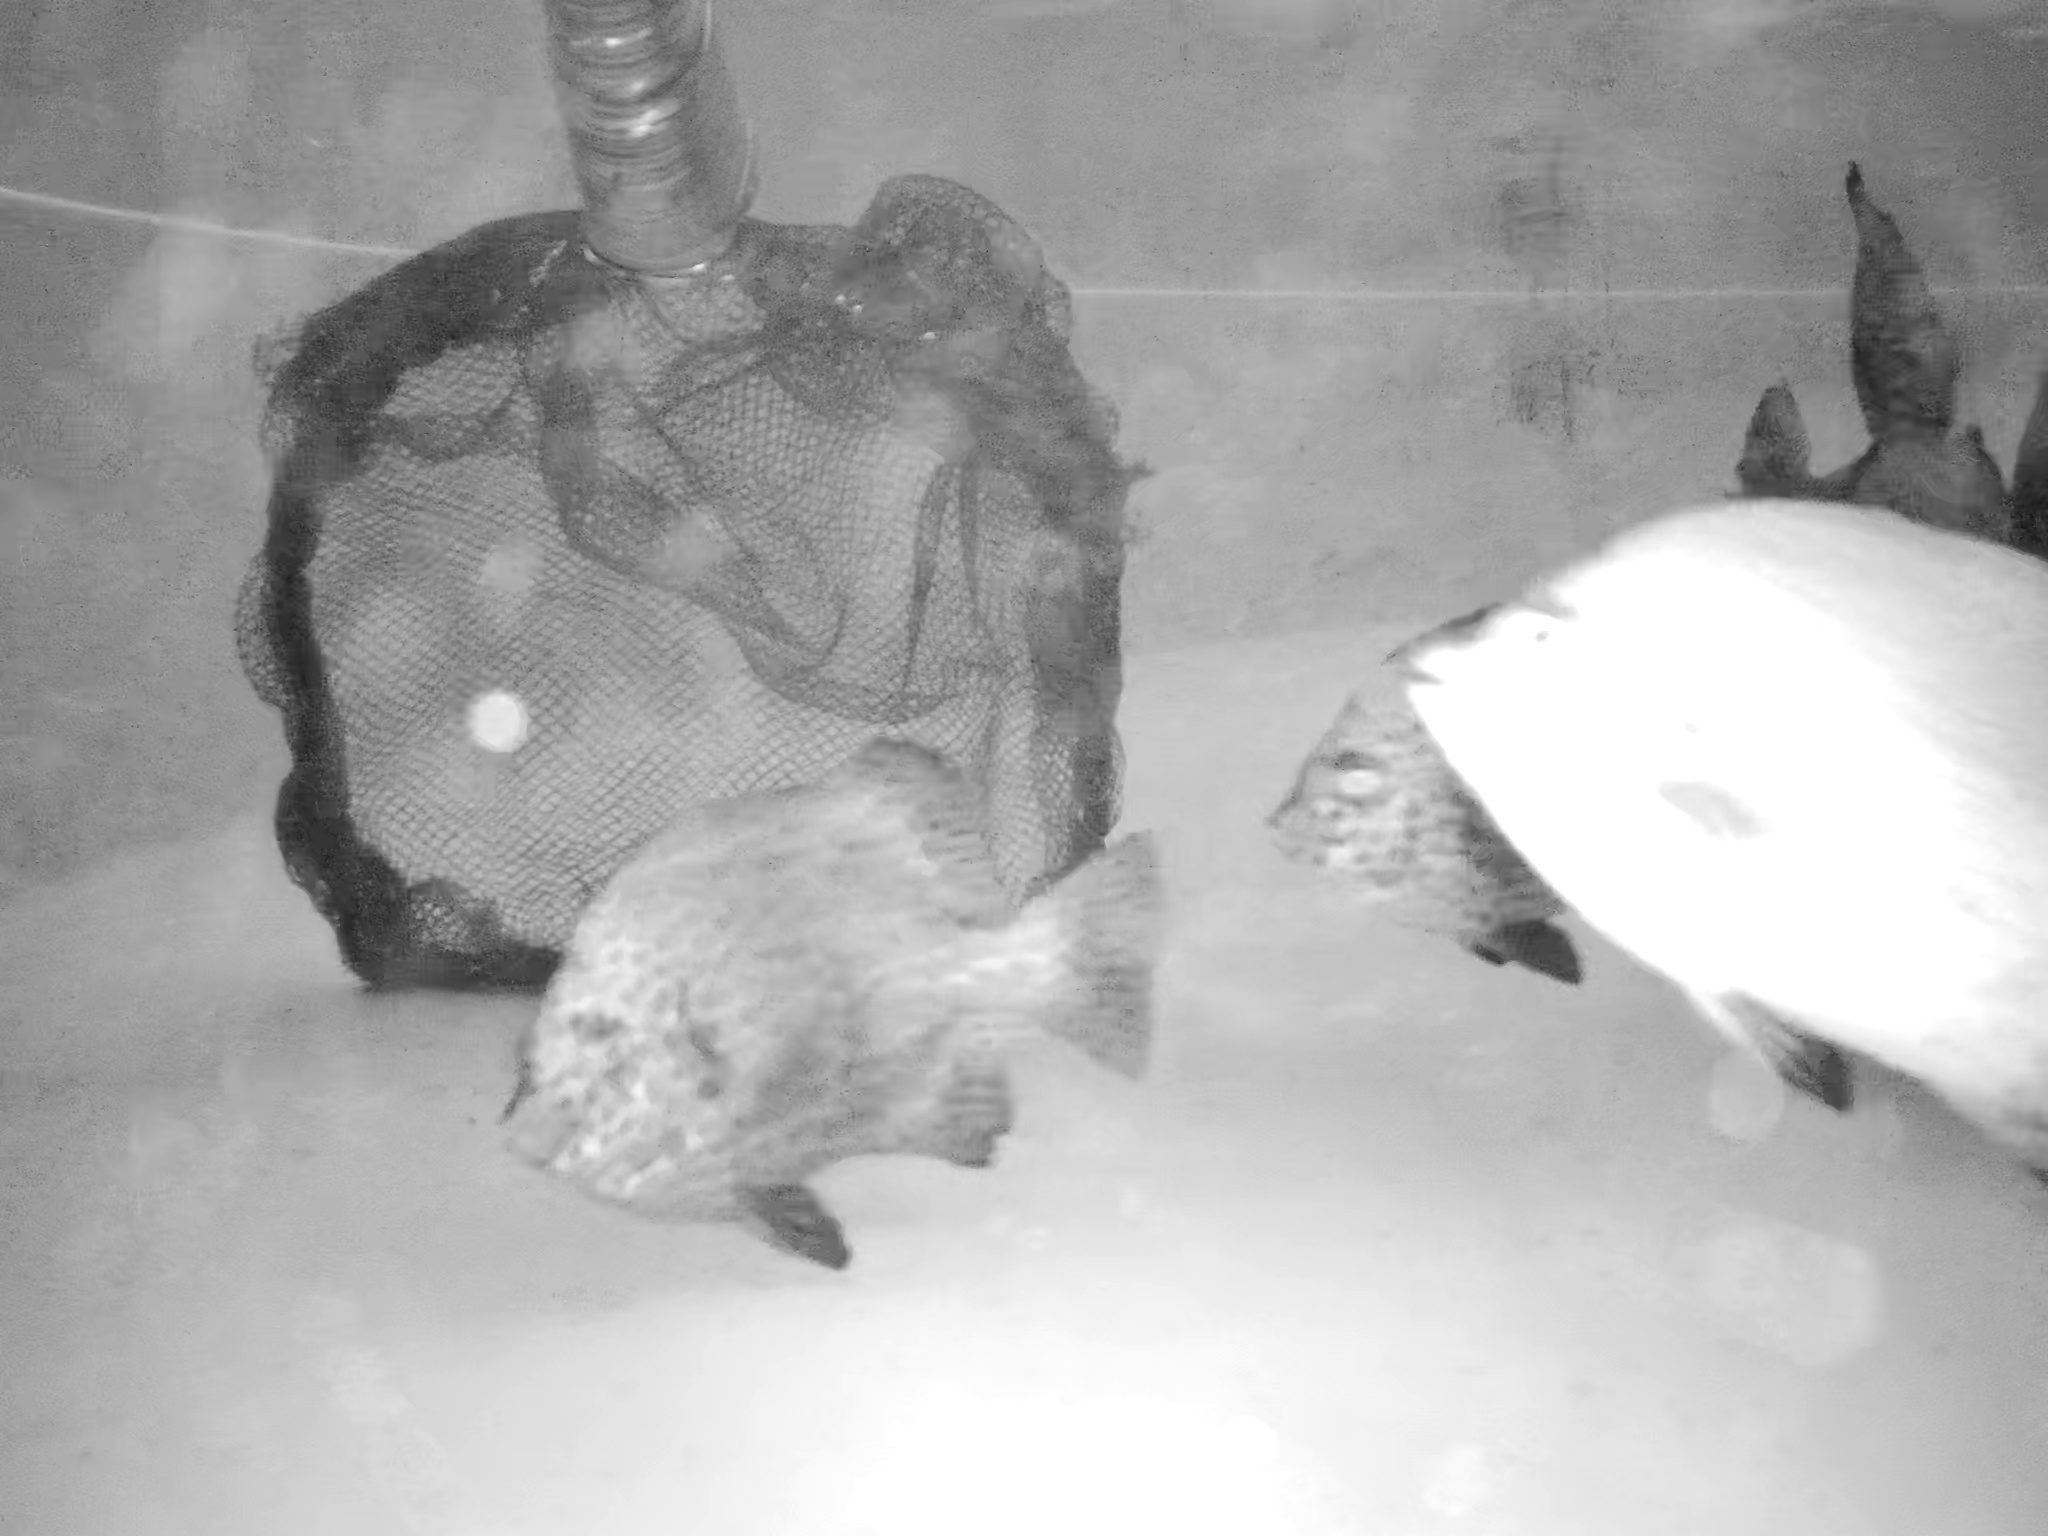fish: (1406, 495, 2048, 1167), (452, 745, 1176, 1244), (1259, 600, 1643, 1008), (1814, 440, 2021, 624), (1814, 179, 1956, 436), (1725, 373, 1825, 520)
